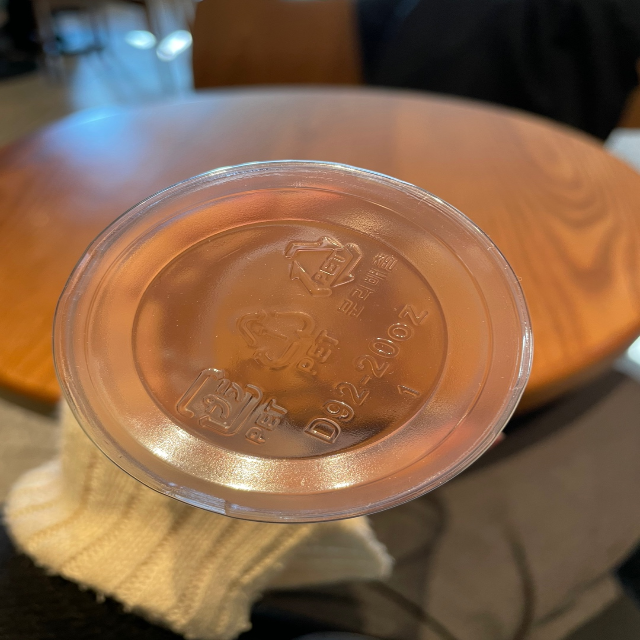pet: (279, 232, 400, 319), (169, 363, 288, 450), (233, 303, 343, 385)
